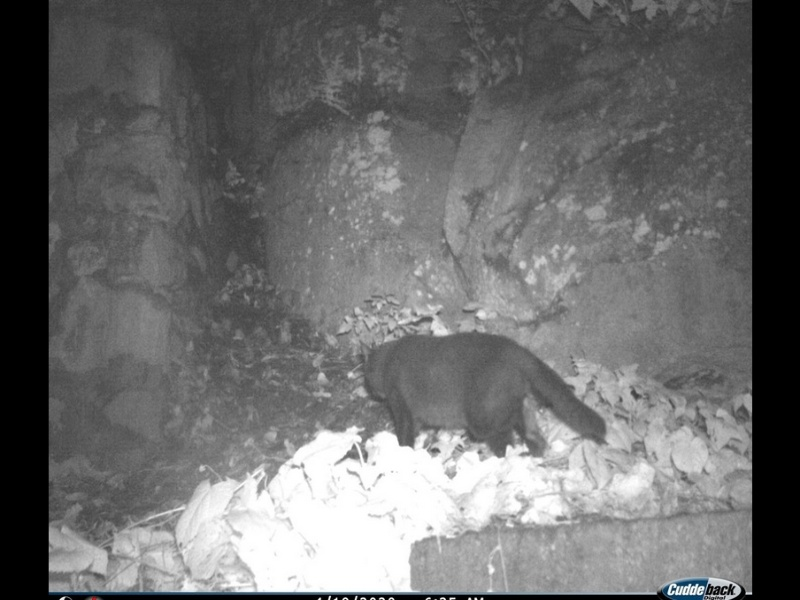cat: (355, 333, 612, 463)
